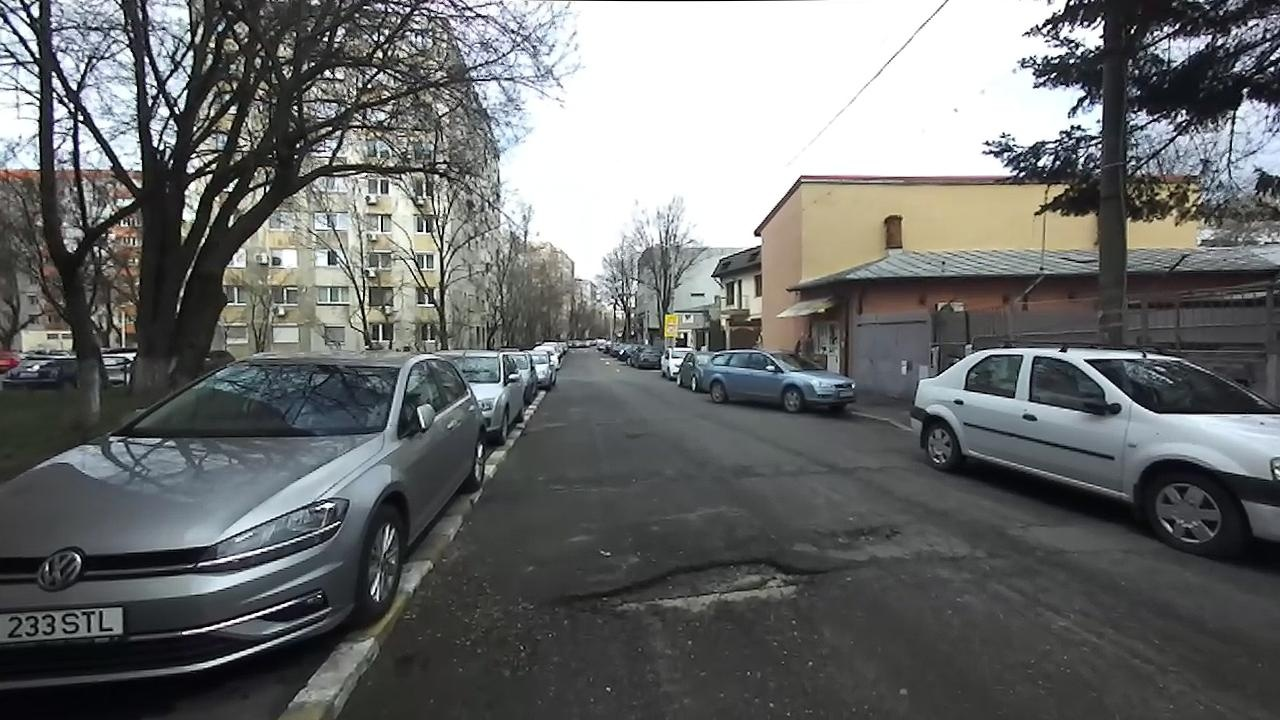pothole: (549, 553, 827, 629), (804, 518, 904, 549)
